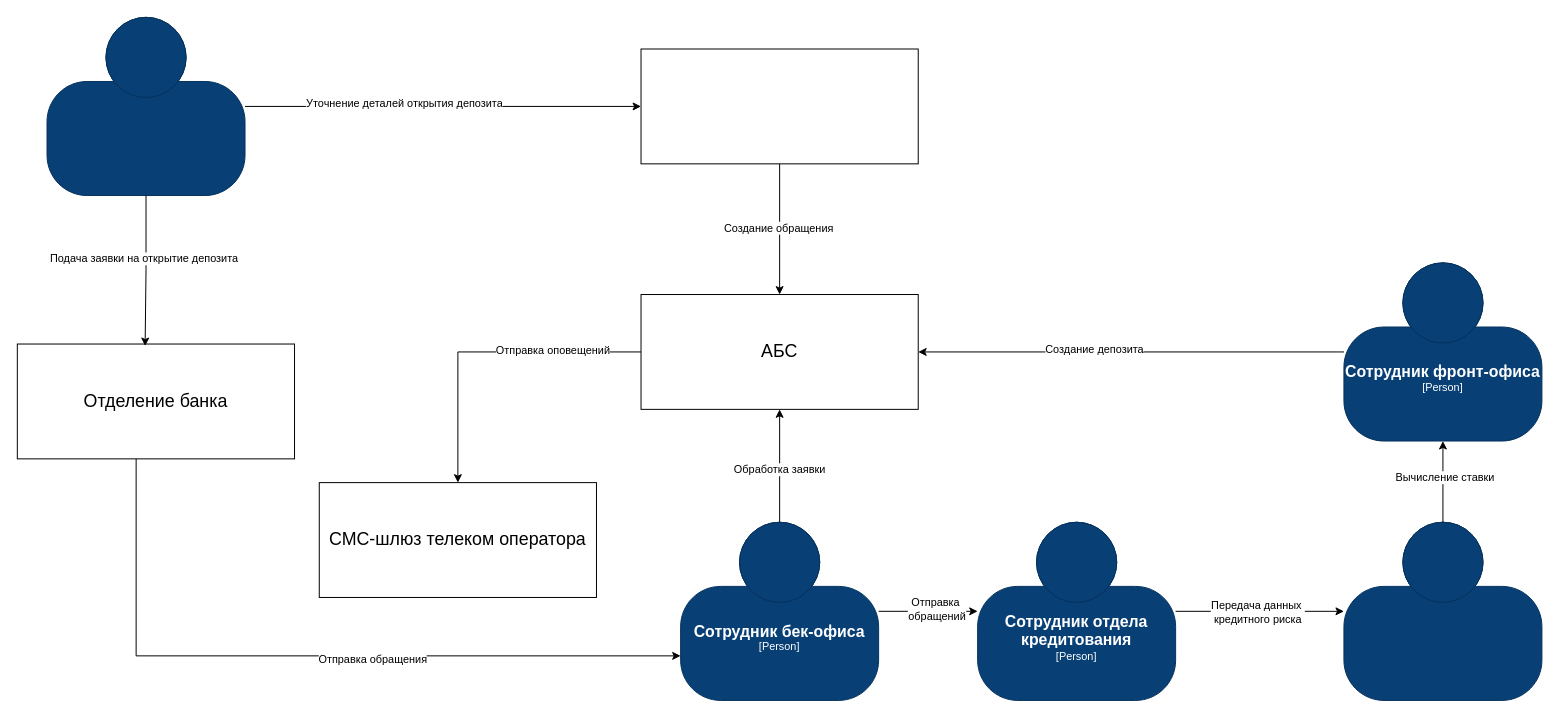
Some shapes in this 1559 by 718 pixel diagram are drawn without their labels. The shapes that lost their labels are listed below. From the top down, each one's centre as x and y in pixels, then its label:
At pixel 145 106: "Клиент [Person]".
At pixel 779 106: "Call-центр".
At pixel 1442 610: "Менеджер депозитов [Person]".
